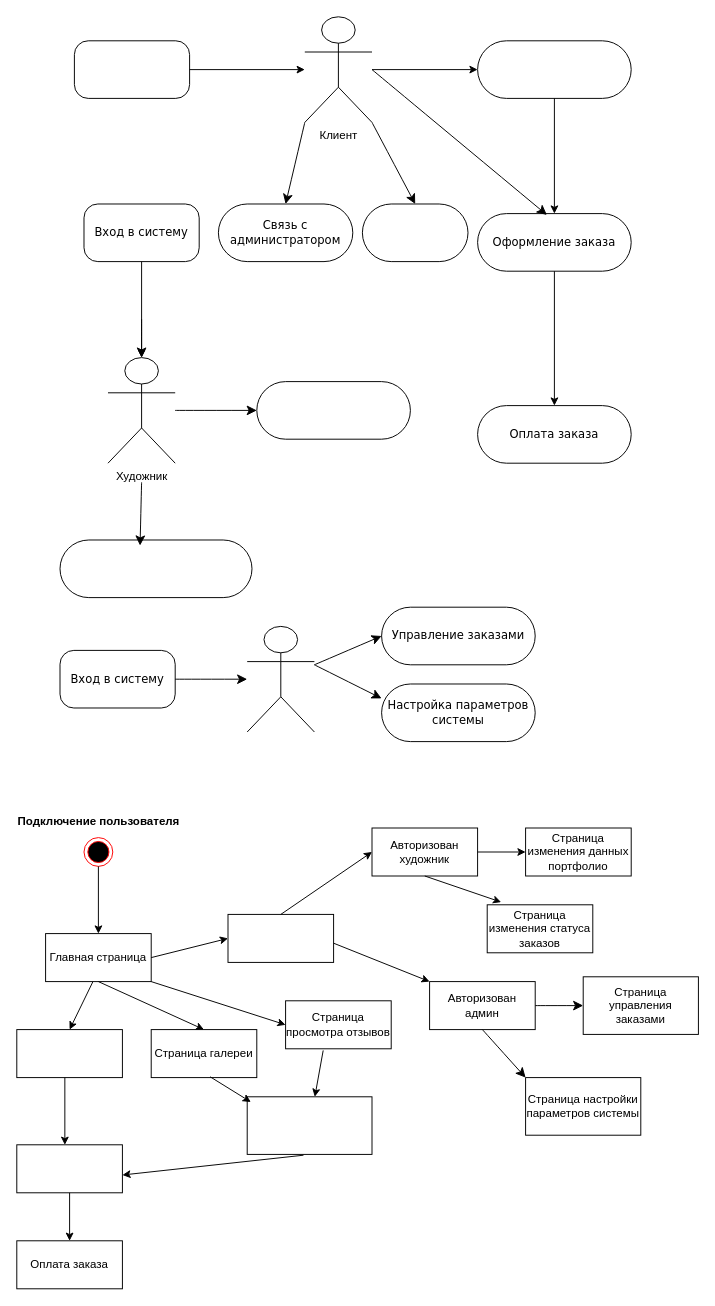
Image size: 715x1306. Some labels were removed from this diagram. The shapes that lost their labels are listed below. From the top down, each one's centre as x and y in pixels, then its label:
At (x=131, y=69): "Просмотр услуг и цен".
At (x=554, y=69): "Просмотр портфолио художника".
At (x=414, y=232): "Просмотр отзывов".
At (x=333, y=410): "Изменение статуса заказа".
At (x=155, y=568): "Редактирование портфолио художника".
At (x=280, y=678): "Администратор".
At (x=280, y=937): "Страница входа".
At (x=69, y=1053): "Страница услуг".
At (x=309, y=1125): "Страница просмотра портфолио художников".
At (x=69, y=1168): "Страница оформления заказа".
